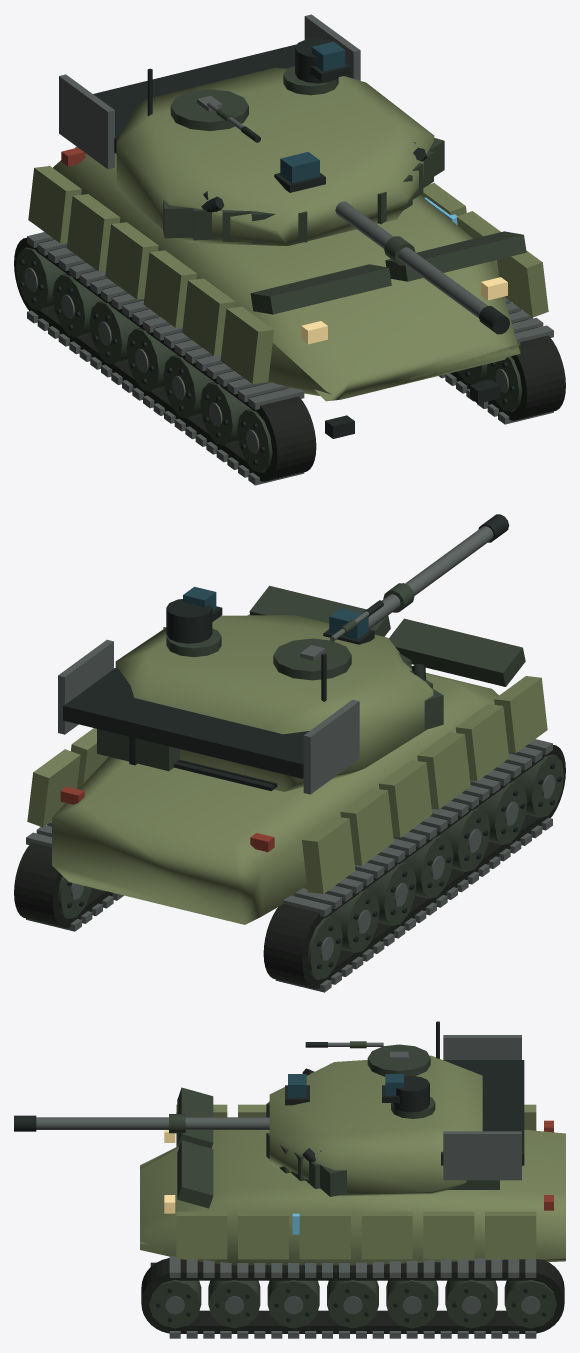
Rendered from lightTank.glb.
3 renders of one model, top to bottom at view 1: azimuth 30°, elevation 25°; view 2: azimuth 150°, elevation 25°; view 3: azimuth 270°, elevation 25°, orthographic. The views are drawn at different scales.
Parts seen in each view (by area): view 1: armor (×2), trim (×2), steel (×3), rubber, dark (×3), glass, lamp; view 2: armor (×2), trim (×2), steel (×3), dark (×2), rubber, stowage, glass, red; view 3: armor (×2), trim (×2), steel (×3), rubber, dark (×2), glass, stowage.
Boxes of the visible parts, x1,y1,x2,y2 form: armor (×2): (28, 67, 548, 401); trim (×2): (16, 65, 526, 472); steel (×3): (24, 14, 553, 485); rubber: (14, 237, 565, 481); dark (×3): (19, 38, 514, 465); glass: (280, 41, 345, 182); lamp: (301, 277, 507, 344); armor (×2): (27, 614, 547, 924); trim (×2): (57, 585, 563, 979); steel (×3): (26, 526, 555, 992); dark (×2): (63, 599, 562, 968); rubber: (14, 745, 565, 988); stowage: (97, 729, 179, 771); glass: (183, 586, 368, 639); red: (60, 786, 274, 852); armor (×2): (140, 1055, 565, 1265); trim (×2): (149, 1044, 556, 1328); steel (×3): (36, 1035, 540, 1338); rubber: (141, 1258, 564, 1333); dark (×2): (150, 1021, 546, 1322); glass: (288, 1074, 403, 1097); stowage: (448, 1180, 499, 1189).
Size of the model in its own units: 3.01 by 2.7 by 5.96.
